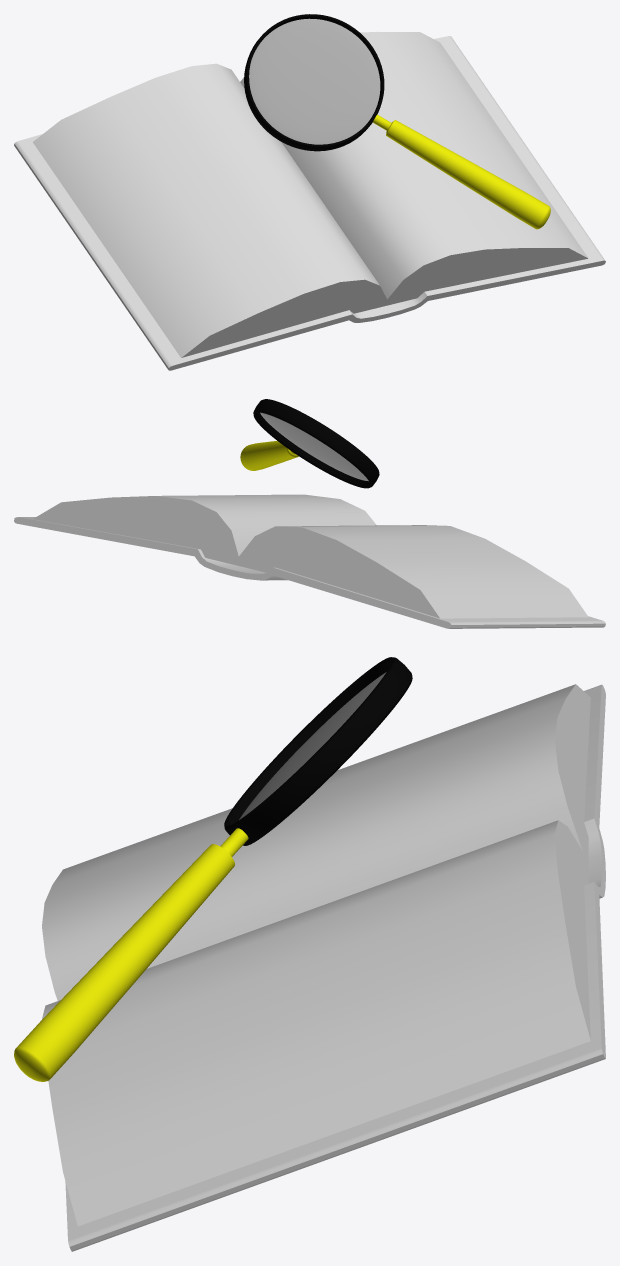
File: MANUAL_BOOK_ICON.fbx
3 renders of one model, top to bottom at view 1: azimuth 30°, elevation 25°; view 2: azimuth 150°, elevation 25°; view 3: azimuth 270°, elevation 25°, orthographic. The views are drawn at different scales.
Parts seen in each view (by area): view 1: book_open_low, MAGNIFYING_GLASS; view 2: book_open_low, MAGNIFYING_GLASS; view 3: book_open_low, MAGNIFYING_GLASS.
Part boxes in pixels (bbox=[...]): book_open_low: bbox=[14, 31, 605, 370]; MAGNIFYING_GLASS: bbox=[244, 14, 550, 229]; book_open_low: bbox=[14, 494, 605, 628]; MAGNIFYING_GLASS: bbox=[240, 399, 379, 488]; book_open_low: bbox=[42, 684, 605, 1251]; MAGNIFYING_GLASS: bbox=[14, 657, 412, 1081].
Bounding box in the file's own units: 10.22 × 5.23 × 6.94.
